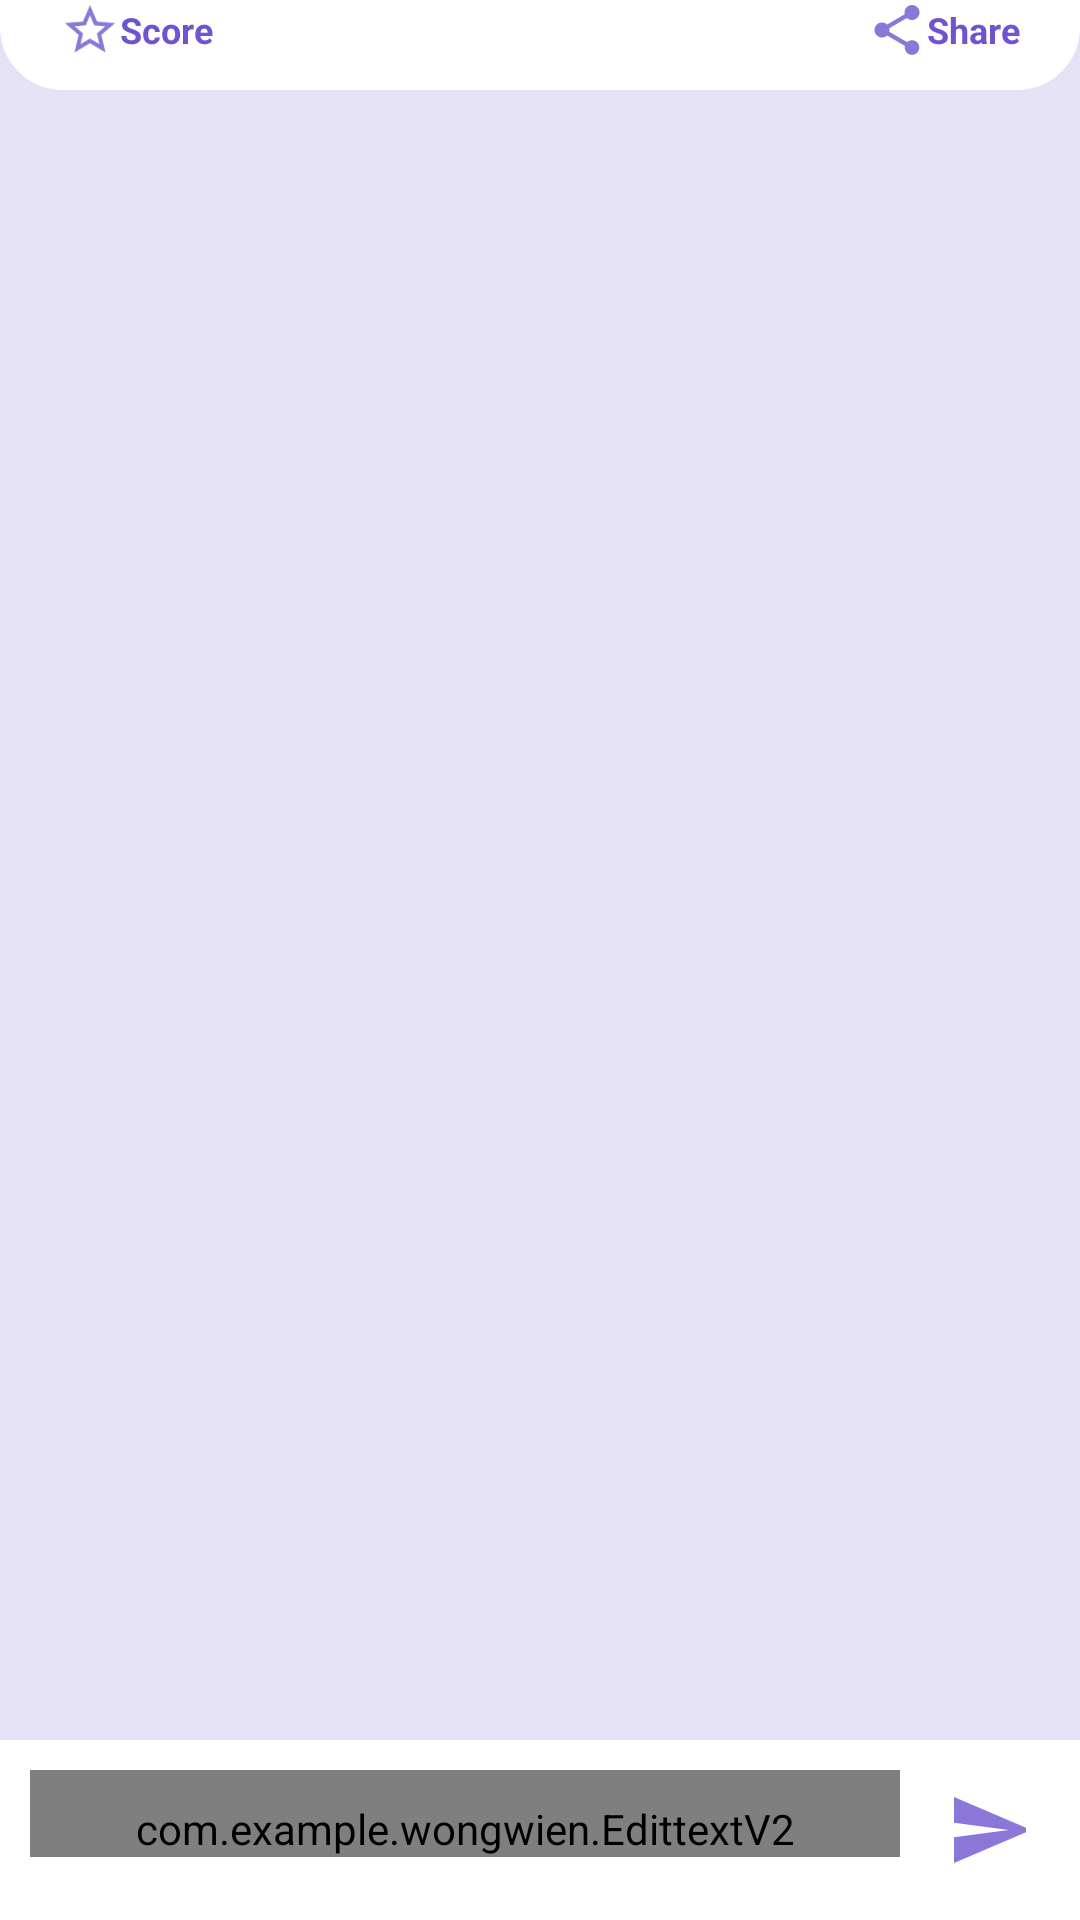

Where to tap for icons on this 1080 x 1920 app screen, as point (x, y):
send: point (990, 1830)
star empty: point (90, 29)
